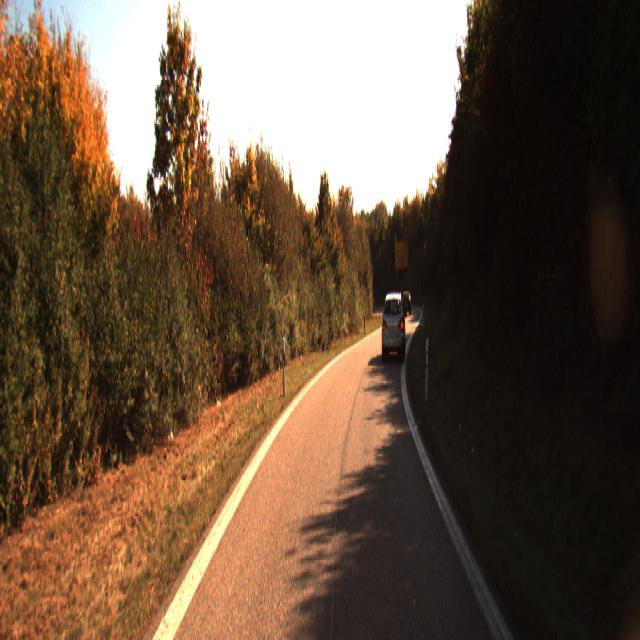Car: (382, 290, 406, 360), (386, 298, 399, 332), (402, 292, 412, 316)
